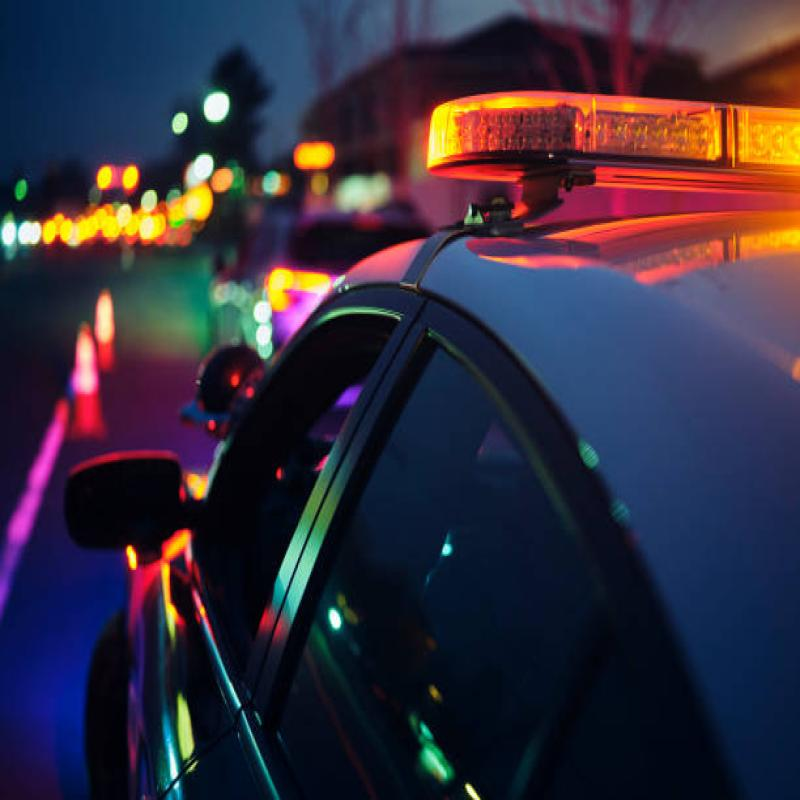AmbulanceSiren: (410, 54, 800, 218)
